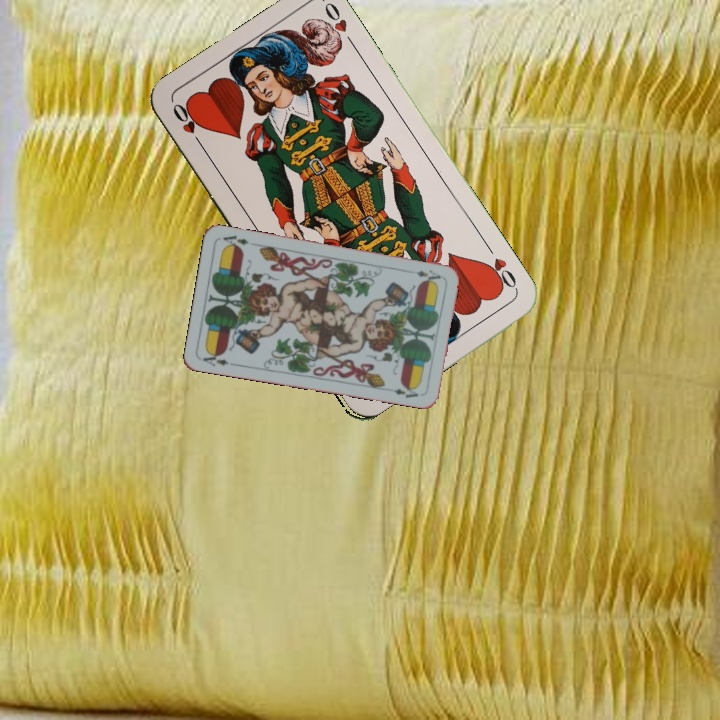EA: (199, 348, 231, 369), (412, 265, 443, 283)
HO: (479, 240, 520, 294), (168, 99, 207, 152)
